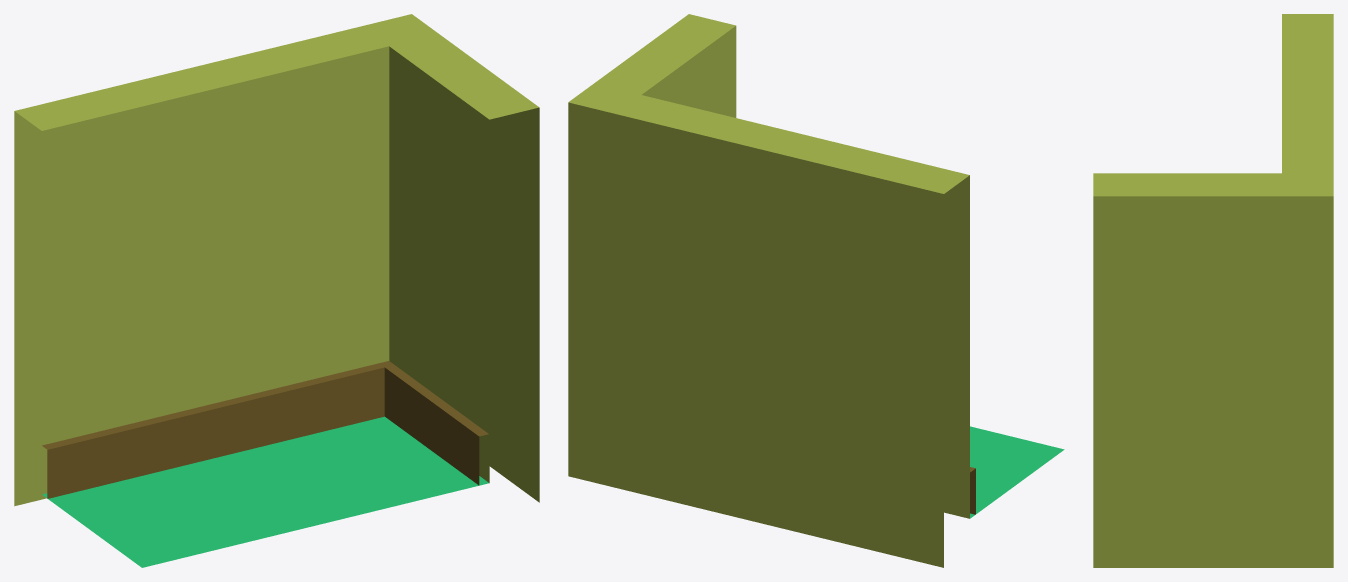
The model's file is ModuleSC_Terr_corn_1.FBX.
The picture shows the model from 3 angles, left to right: view 1: azimuth 30°, elevation 25°; view 2: azimuth 150°, elevation 25°; view 3: azimuth 270°, elevation 25°; orthographic projection. The views are drawn at different scales.
Parts seen in each view (by area): view 1: ModuleSC_Terr_wall_03, ModuleSC_Terr_floo_01, ModuleSC_Terr_skboard_03; view 2: ModuleSC_Terr_wall_03, ModuleSC_Terr_floo_01; view 3: ModuleSC_Terr_wall_03.
Part boxes in pixels (<box>): ModuleSC_Terr_wall_03: <box>14,14,539,506</box>; ModuleSC_Terr_floo_01: <box>42,416,488,567</box>; ModuleSC_Terr_skboard_03: <box>42,361,488,498</box>; ModuleSC_Terr_wall_03: <box>568,14,969,567</box>; ModuleSC_Terr_floo_01: <box>970,426,1064,518</box>; ModuleSC_Terr_wall_03: <box>1093,14,1333,567</box>.
Size of the model in its own units: 45.09 by 42.81 by 25.07.
